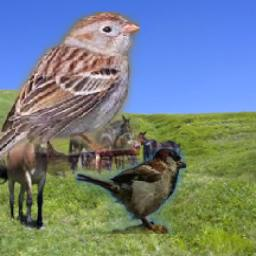Sparrow: (0, 12, 141, 179), (75, 147, 186, 234)
